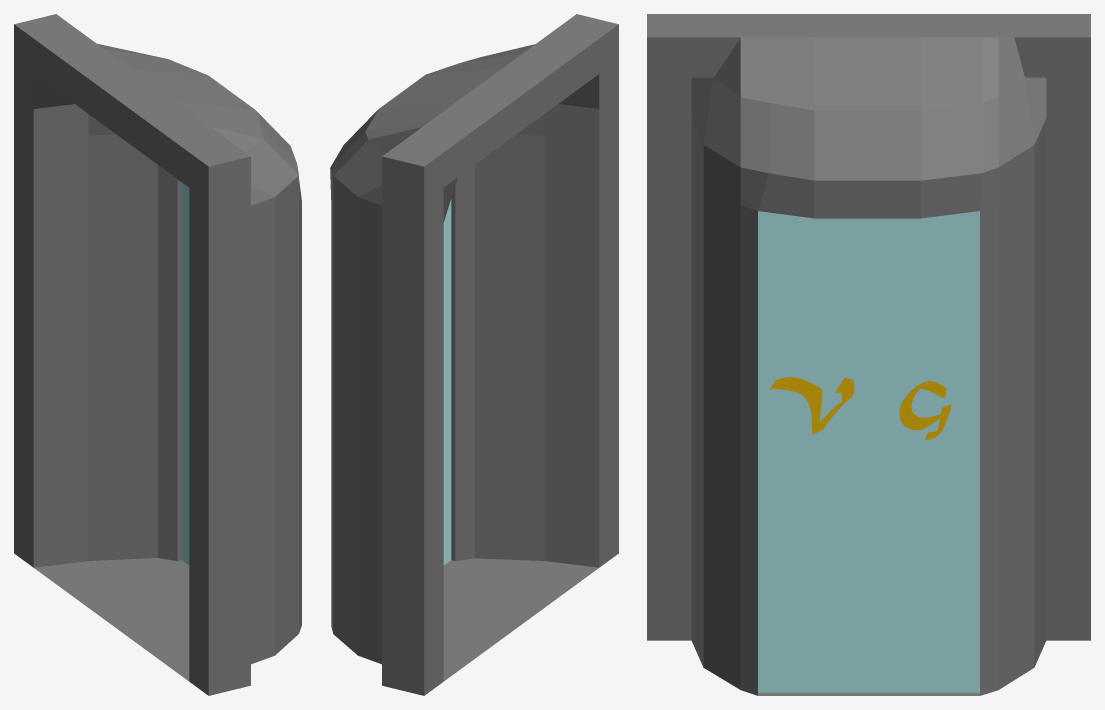
Rendered from Door.FBX.
3 views of the same model, side by side, from view 1: azimuth 30°, elevation 25°; view 2: azimuth 150°, elevation 25°; view 3: azimuth 270°, elevation 25° (orthographic). The views are drawn at different scales.
Visible parts, largest first — view 1: Box005, Box008; view 2: Box005, Box007; view 3: Box005, Box008, Box007.
Part boxes in pixels (x1,y1,x2,y2): Box005: (14,14,301,695); Box008: (181,182,189,565); Box005: (330,14,618,695); Box007: (443,199,451,565); Box005: (647,14,1090,695); Box008: (869,211,979,692); Box007: (758,211,868,692).
Bounding box in the file's own units: 0.9199 × 3 × 2.
Materials: 3 (2 with a texture image).
